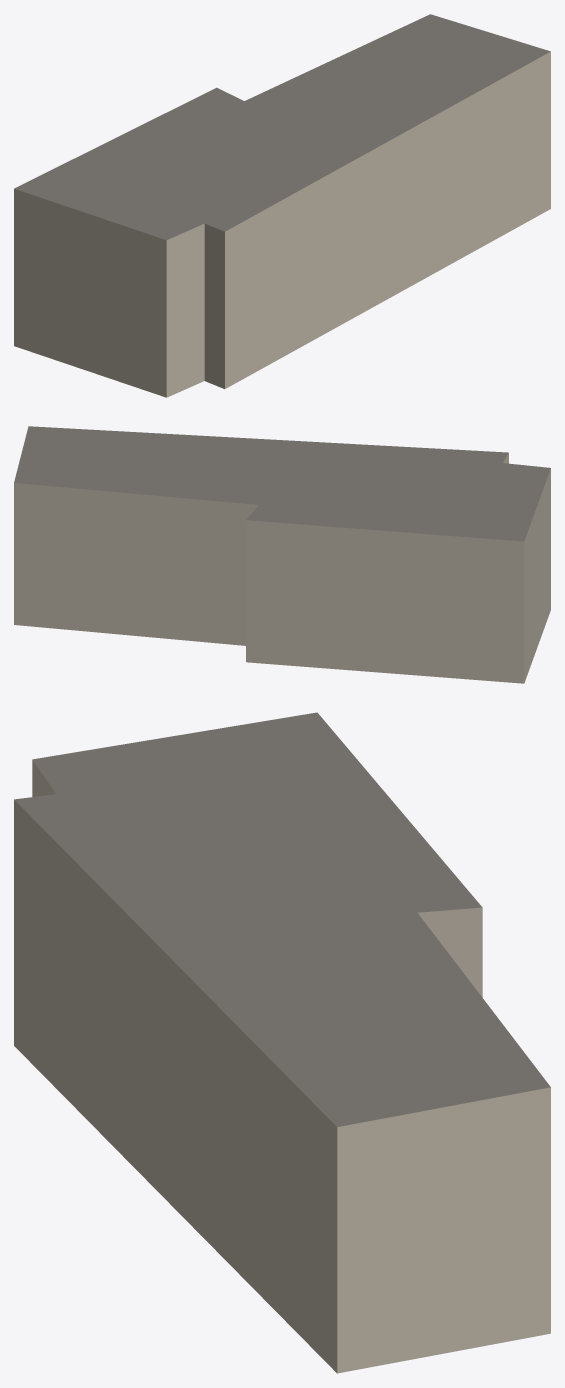
3 views of the same model, one above another, from view 1: azimuth 30°, elevation 25°; view 2: azimuth 150°, elevation 25°; view 3: azimuth 270°, elevation 25° (orthographic). The views are drawn at different scales.
Parts seen in each view (by area): view 1: HP-w1516161893; view 2: HP-w1516161893; view 3: HP-w1516161893.
Boxes of the visible parts, left/top/right/bottom form: HP-w1516161893: left=14, top=14, right=550, bottom=397; HP-w1516161893: left=14, top=426, right=550, bottom=683; HP-w1516161893: left=14, top=712, right=550, bottom=1373.
Bounding box in the file's own units: 64.98 × 18 × 35.56.
